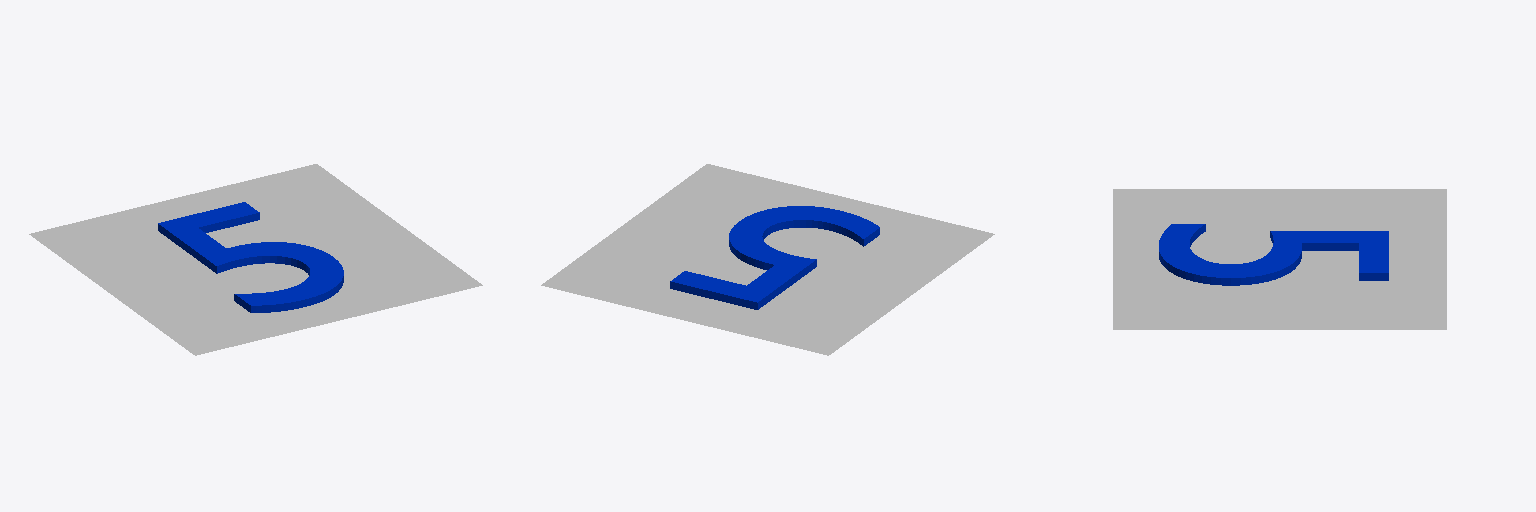
Rendered from TileFive.obj.
3 renders of one model, left to right at view 1: azimuth 30°, elevation 25°; view 2: azimuth 150°, elevation 25°; view 3: azimuth 270°, elevation 25°, orthographic.
Size of the model in its own units: 20 by 0.5 by 20.